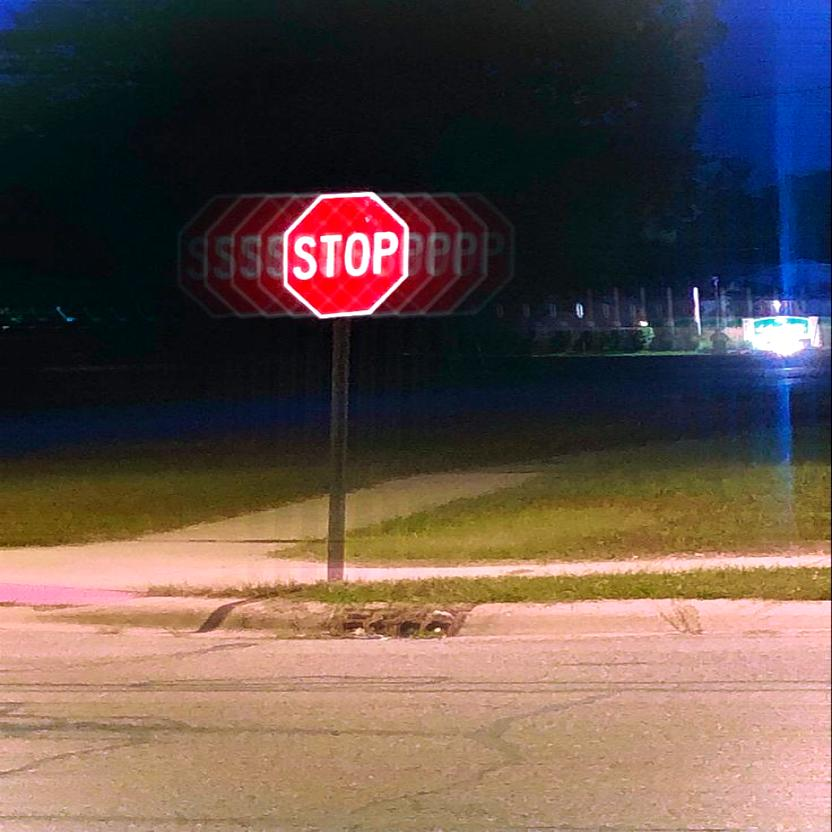Pole: (325, 321, 343, 586)
Sign: (288, 196, 404, 314)
